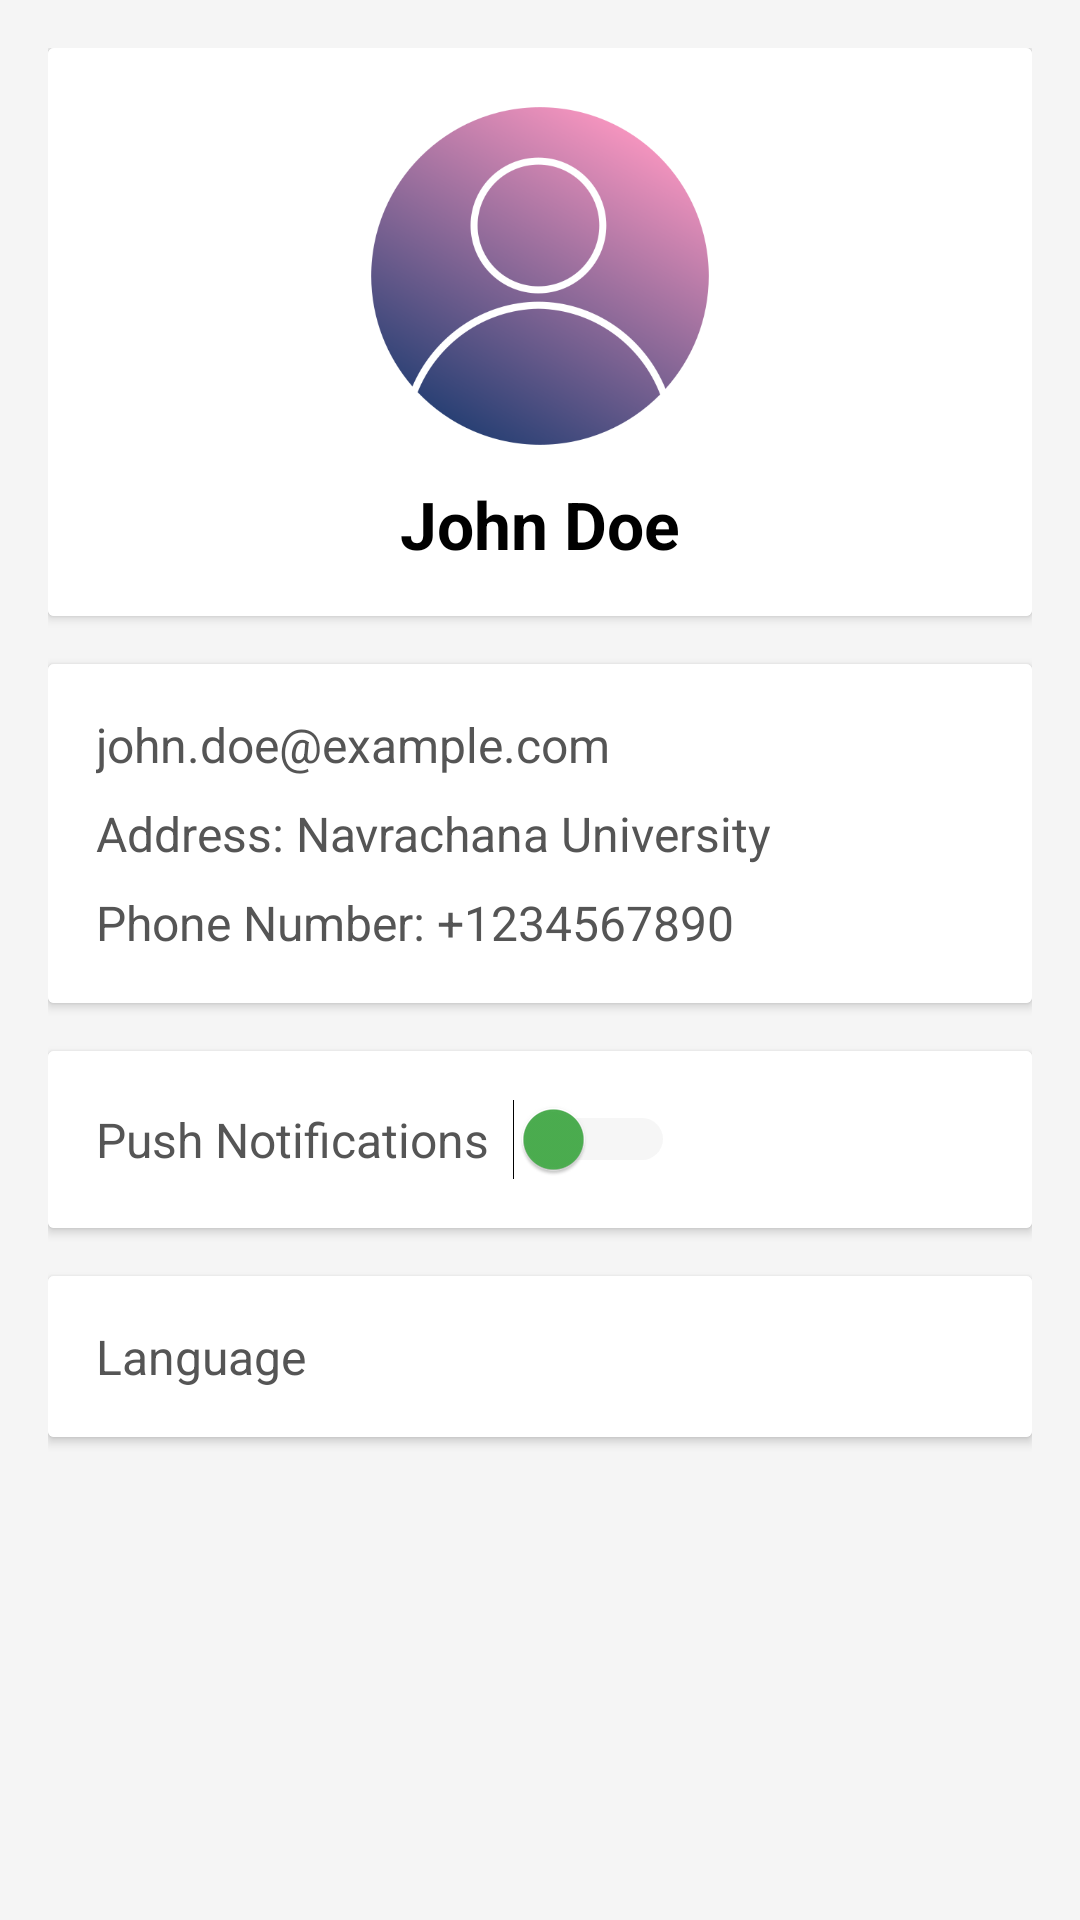

Where to tap for icons on this 1080px x 1920px app screen, as (x,y):
Profile Image: (540,276)
